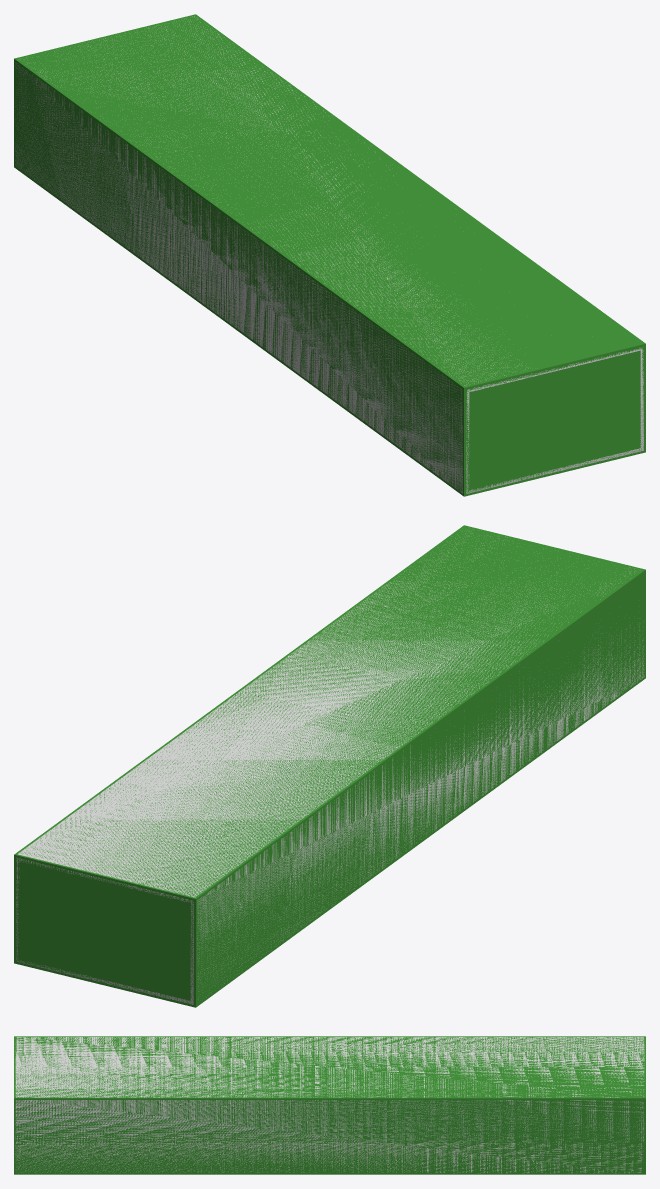
File: DuctStraight_01_Mesh.fbx
The picture shows the model from 3 angles, top to bottom: view 1: azimuth 30°, elevation 25°; view 2: azimuth 150°, elevation 25°; view 3: azimuth 270°, elevation 25°; orthographic projection. The views are drawn at different scales.
Parts seen in each view (by area): view 1: Duct_StraightDuct_01_Col, Duct_StraightDuct_01_LOD0; view 2: Duct_StraightDuct_01_Col, Duct_StraightDuct_01_LOD0; view 3: Duct_StraightDuct_01_Col, Duct_StraightDuct_01_LOD0.
Part boxes in pixels (x1,y1,x2,y2): Duct_StraightDuct_01_Col: (14, 14, 645, 496); Duct_StraightDuct_01_LOD0: (15, 16, 643, 493); Duct_StraightDuct_01_Col: (14, 525, 645, 1007); Duct_StraightDuct_01_LOD0: (16, 531, 644, 1004); Duct_StraightDuct_01_Col: (14, 1036, 645, 1174); Duct_StraightDuct_01_LOD0: (15, 1037, 644, 1173).
Size of what is drawn, in the model's own units: 69.99 by 39.97 by 300.
